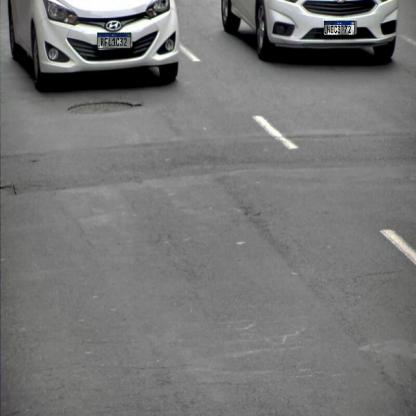PlacaM: (97, 32, 131, 48), (324, 21, 355, 35)
